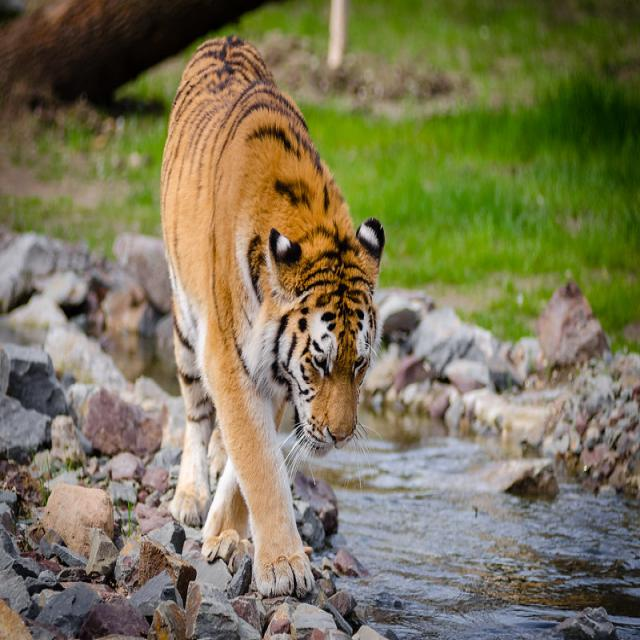Tiger: (161, 34, 385, 594)
